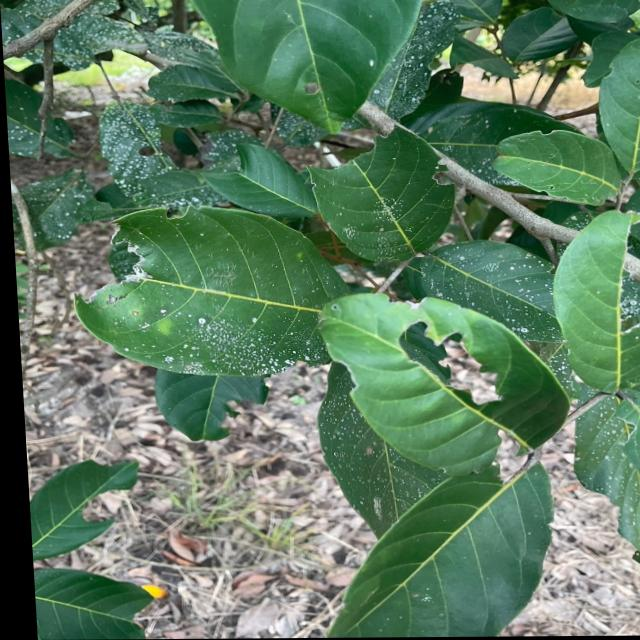Algal Leaf Spot: (352, 202, 594, 349), (104, 89, 300, 220), (333, 16, 509, 151), (12, 0, 238, 88), (163, 294, 327, 379)
